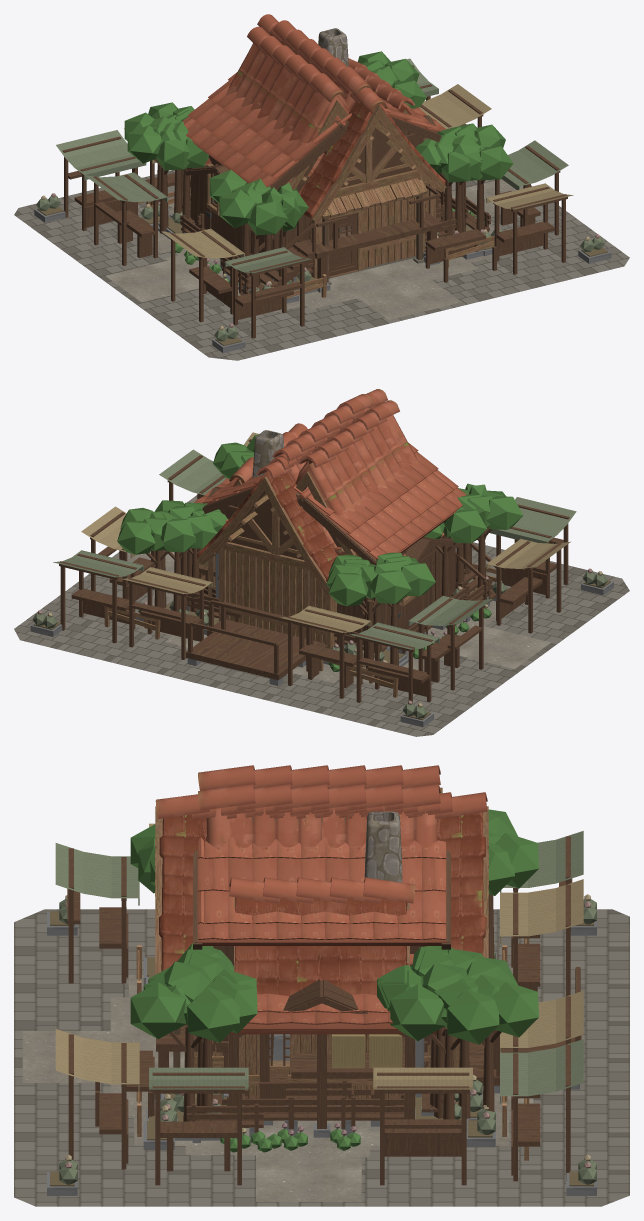
The model's file is c4-distance.glb.
3 views of the same model, one above another, from view 1: azimuth 30°, elevation 25°; view 2: azimuth 150°, elevation 25°; view 3: azimuth 270°, elevation 25° (orthographic). The views are drawn at different scales.
Visible parts, largest first — view 1: market-civic-square-surface-paving, Wall_WoodWear_Door_Flat (×2), Roof_RoundTiles_4x4 (×2), facility-farm-roof, market-civic-square-surface-path, Roof_FlatTiles_4x6, market-civic-square-stalls-seat-8, facility-granary-deck, market-civic-square-stalls-seat-9, market-civic-square-stalls-seat-4, market-civic-square-roof-seat-0, plaza-festival-court-foliage-seat-0 (+33 smaller); view 2: market-civic-square-surface-paving, Wall_WoodWear_Door_Flat, Roof_RoundTiles_4x4 (×2), facility-farm-roof, market-civic-square-stage-seat-0, Roof_FlatTiles_4x6, market-civic-square-surface-path, market-civic-square-stalls-seat-0, market-civic-square-stalls-seat-2, market-civic-square-stalls-seat-1, market-civic-square-stalls-seat-3, market-civic-square-stalls-seat-4 (+36 smaller); view 3: market-civic-square-surface-paving, Roof_RoundTiles_4x4 (×2), facility-granary-roof, Roof_FlatTiles_4x6, Roof_2x4_FlatTile, market-civic-square-surface-path, plaza-festival-court-foliage-seat-1, plaza-town-square-foliage-seat-1, market-civic-square-stalls-seat-6, facility-farm-roof, facility-farm-core, market-civic-square-stalls-seat-7 (+51 smaller).
Boxes of the visible parts, bbox=[...] form: market-civic-square-surface-paving: bbox=[14, 170, 629, 360]; Wall_WoodWear_Door_Flat (×2): bbox=[309, 105, 446, 278]; Roof_RoundTiles_4x4 (×2): bbox=[204, 20, 415, 193]; facility-farm-roof: bbox=[182, 72, 446, 190]; market-civic-square-surface-path: bbox=[106, 179, 523, 319]; Roof_FlatTiles_4x6: bbox=[257, 14, 445, 218]; market-civic-square-stalls-seat-8: bbox=[231, 250, 306, 338]; facility-granary-deck: bbox=[301, 183, 442, 258]; market-civic-square-stalls-seat-9: bbox=[493, 186, 567, 274]; market-civic-square-stalls-seat-4: bbox=[93, 174, 158, 265]; market-civic-square-roof-seat-0: bbox=[56, 130, 146, 180]; plaza-festival-court-foliage-seat-0: bbox=[219, 183, 288, 235]; market-civic-square-surface-paving: bbox=[14, 495, 629, 736]; Wall_WoodWear_Door_Flat: bbox=[197, 402, 384, 648]; Roof_RoundTiles_4x4 (×2): bbox=[229, 394, 444, 557]; facility-farm-roof: bbox=[194, 443, 466, 564]; market-civic-square-stage-seat-0: bbox=[186, 621, 305, 685]; Roof_FlatTiles_4x6: bbox=[197, 389, 387, 581]; market-civic-square-surface-path: bbox=[116, 551, 550, 669]; market-civic-square-stalls-seat-0: bbox=[355, 626, 433, 703]; market-civic-square-stalls-seat-2: bbox=[127, 570, 205, 659]; market-civic-square-stalls-seat-1: bbox=[286, 609, 364, 698]; market-civic-square-stalls-seat-3: bbox=[59, 553, 137, 643]; market-civic-square-stalls-seat-4: bbox=[417, 598, 484, 690]; market-civic-square-surface-paving: bbox=[14, 909, 629, 1206]; Roof_RoundTiles_4x4 (×2): bbox=[198, 765, 440, 903]; facility-granary-roof: bbox=[193, 837, 450, 949]; Roof_FlatTiles_4x6: bbox=[155, 792, 487, 971]; Roof_2x4_FlatTile: bbox=[234, 897, 407, 996]; market-civic-square-surface-path: bbox=[22, 1031, 361, 1201]; plaza-festival-court-foliage-seat-1: bbox=[130, 961, 239, 1042]; plaza-town-square-foliage-seat-1: bbox=[390, 963, 499, 1044]; market-civic-square-stalls-seat-6: bbox=[377, 1072, 469, 1185]; facility-farm-roof: bbox=[229, 993, 436, 1034]; facility-farm-core: bbox=[259, 1034, 404, 1105]; market-civic-square-stalls-seat-7: bbox=[152, 1072, 244, 1185].
Bounding box in the file's own units: 16 × 6.9 × 14.
Materials: 15 (10 with a texture image).
